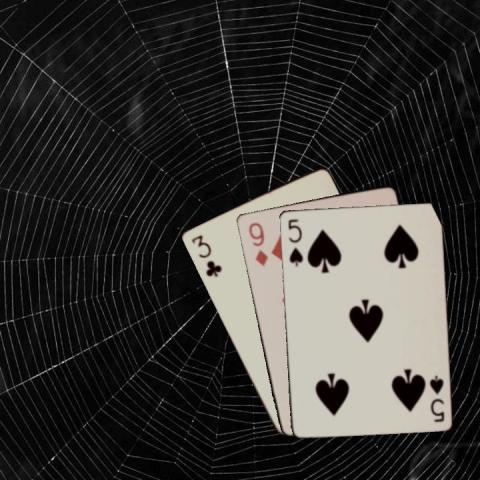3c: (188, 232, 223, 278)
5s: (285, 215, 304, 268), (426, 372, 445, 424)
9d: (246, 219, 270, 267)
